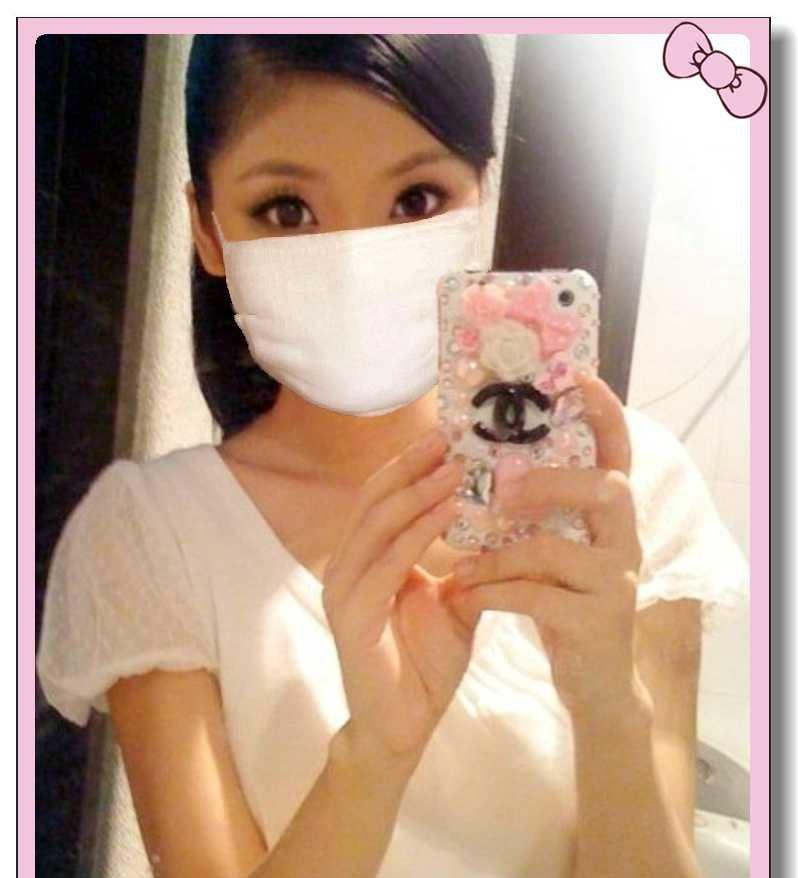OK: (203, 122, 499, 418)
